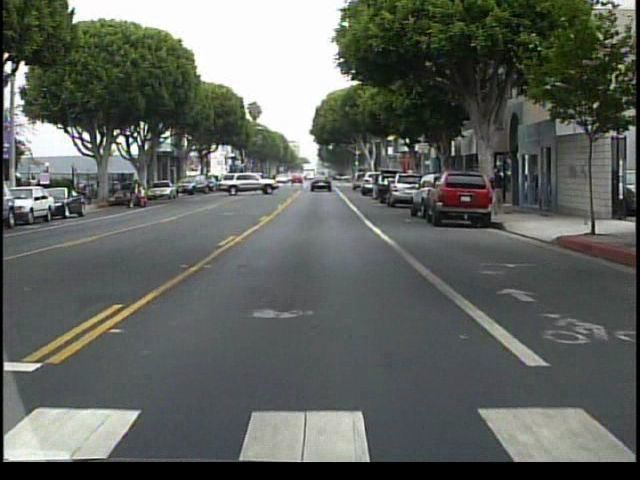person: (489, 166, 510, 216), (131, 178, 149, 210)
